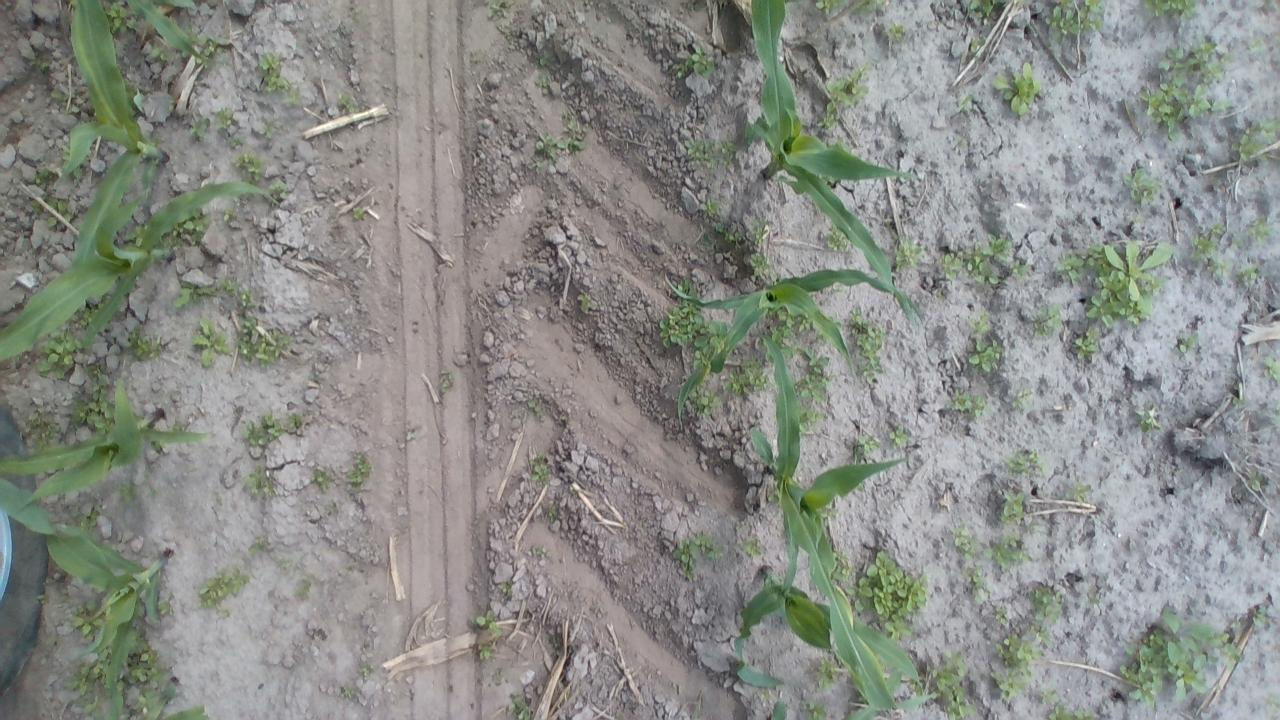Maize: (756, 332, 906, 712), (0, 180, 279, 358), (749, 0, 912, 304), (0, 478, 170, 720), (664, 266, 916, 426), (67, 0, 169, 280), (738, 565, 922, 720), (2, 380, 205, 508), (100, 650, 208, 720), (122, 0, 210, 66), (770, 698, 788, 720)
Weeds: (1121, 607, 1237, 708), (1139, 41, 1231, 132), (857, 548, 926, 642), (1102, 240, 1174, 302), (236, 288, 294, 362), (842, 303, 886, 382), (816, 68, 872, 124), (66, 383, 117, 437), (660, 278, 697, 352), (992, 62, 1042, 114), (933, 654, 972, 720), (1043, 0, 1103, 40), (197, 569, 250, 609), (128, 644, 161, 704), (194, 316, 232, 367), (40, 336, 82, 378), (174, 276, 232, 306), (962, 242, 1001, 286), (990, 534, 1026, 579), (125, 323, 167, 361), (998, 632, 1042, 668), (1027, 588, 1065, 626), (1124, 166, 1158, 207), (992, 670, 1032, 704), (677, 44, 712, 80), (726, 359, 762, 394), (185, 22, 214, 65), (696, 317, 726, 356), (232, 148, 266, 182), (800, 356, 827, 398), (19, 414, 58, 443), (70, 601, 102, 636), (1010, 448, 1046, 479), (1030, 305, 1062, 338), (691, 532, 720, 568), (106, 3, 139, 34), (1085, 295, 1118, 325), (1144, 0, 1199, 18), (999, 490, 1028, 524), (564, 117, 587, 159), (1056, 254, 1085, 286), (264, 50, 284, 93), (213, 104, 238, 138), (814, 656, 842, 686), (351, 450, 372, 490), (954, 530, 980, 562), (712, 222, 744, 248), (968, 343, 996, 372), (1230, 132, 1257, 162), (245, 466, 274, 493), (937, 250, 963, 278), (530, 451, 552, 484), (822, 230, 851, 255), (770, 312, 794, 342), (44, 200, 70, 227), (188, 115, 212, 144), (73, 664, 99, 690), (1076, 332, 1098, 362), (508, 690, 530, 720), (1134, 403, 1160, 428), (1047, 705, 1090, 720), (686, 139, 714, 162), (966, 564, 986, 596), (1006, 389, 1036, 410), (536, 133, 560, 159), (260, 411, 283, 438), (1251, 599, 1268, 633), (1068, 481, 1092, 505), (896, 241, 917, 268), (966, 0, 1000, 16), (1178, 330, 1198, 357), (852, 437, 872, 464), (956, 393, 984, 412), (969, 312, 992, 334), (886, 22, 907, 46), (1190, 234, 1211, 258), (804, 698, 829, 718), (312, 467, 332, 492), (340, 91, 360, 116), (750, 222, 766, 252), (742, 536, 766, 556), (696, 392, 716, 416), (242, 424, 260, 450), (473, 613, 499, 630), (722, 142, 744, 162), (1264, 354, 1280, 381), (989, 236, 1008, 258), (576, 292, 594, 315), (891, 425, 908, 448), (672, 542, 693, 560), (1253, 219, 1268, 244), (546, 500, 560, 526), (1238, 264, 1258, 282), (752, 255, 772, 272), (250, 537, 268, 555), (358, 662, 376, 680), (288, 412, 304, 432), (295, 578, 311, 598), (796, 314, 810, 336), (341, 684, 358, 702), (1010, 259, 1028, 276), (815, 0, 839, 12), (1212, 258, 1230, 274), (477, 642, 493, 660), (682, 558, 698, 576), (528, 397, 542, 417), (993, 606, 1008, 624), (35, 168, 49, 186), (1228, 234, 1242, 252), (350, 205, 364, 222), (1210, 220, 1225, 235), (706, 200, 720, 216), (1040, 691, 1056, 705), (536, 546, 552, 560), (500, 581, 512, 598)
